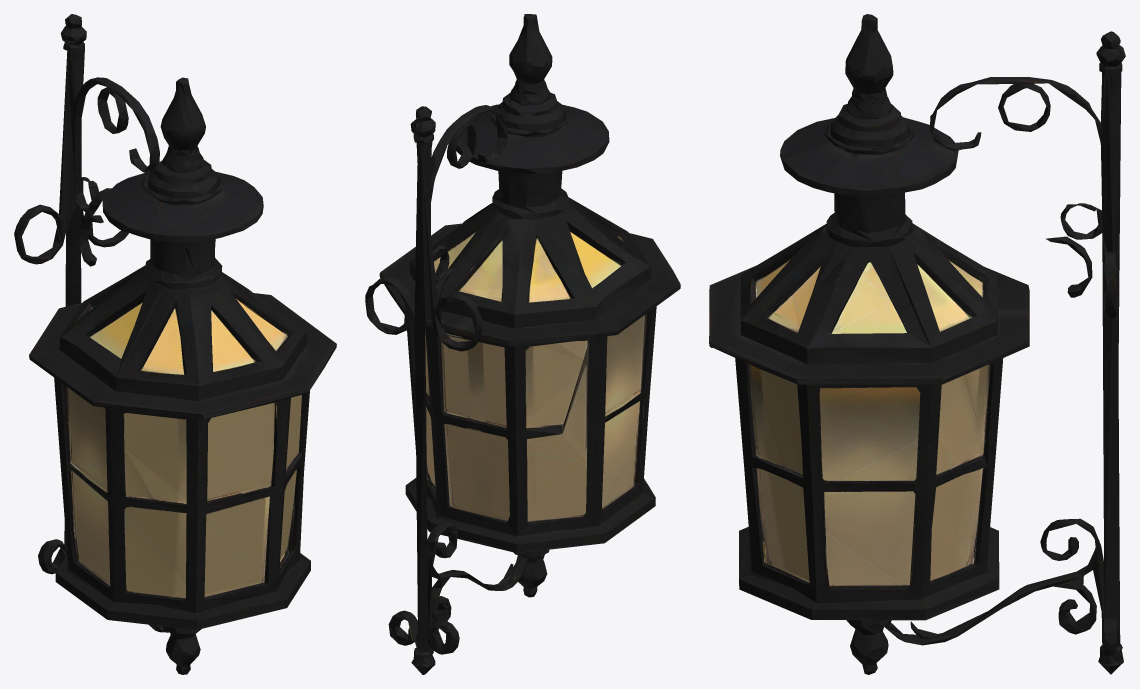
Rendered from lantern_wall.glb.
3 views of the same model, side by side, from view 1: azimuth 30°, elevation 25°; view 2: azimuth 150°, elevation 25°; view 3: azimuth 270°, elevation 25° (orthographic). The views are drawn at different scales.
Bounding box in the file's own units: 0.8104 × 1.9 × 1.09.
Materials: 1 (1 with a texture image).
